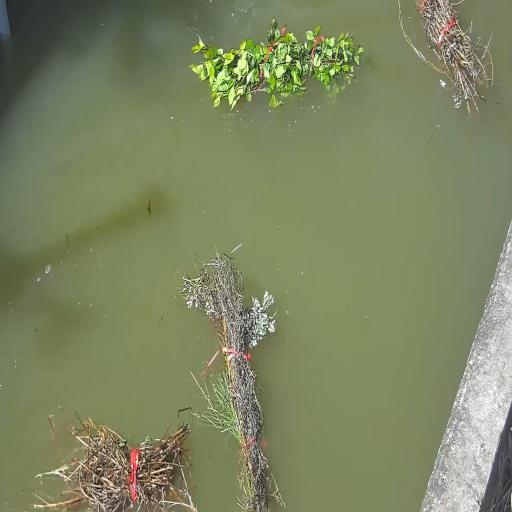twig: (179, 251, 284, 512), (191, 19, 363, 108), (42, 418, 197, 512), (404, 0, 492, 109)
